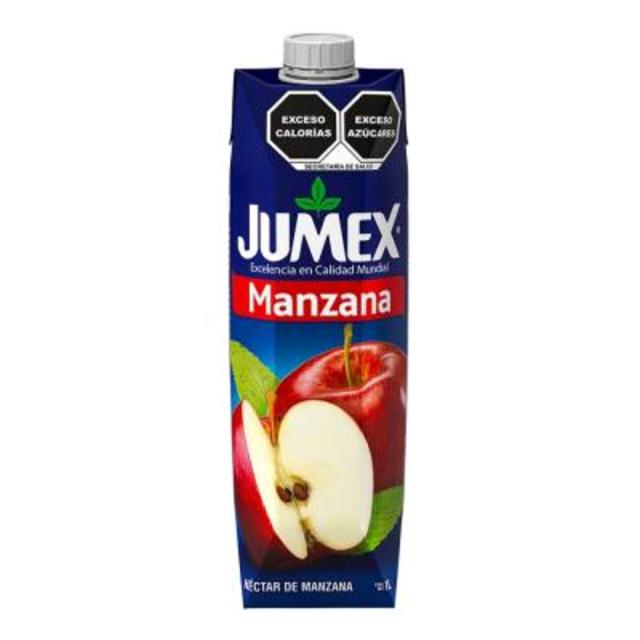Caja: (218, 31, 418, 608)
